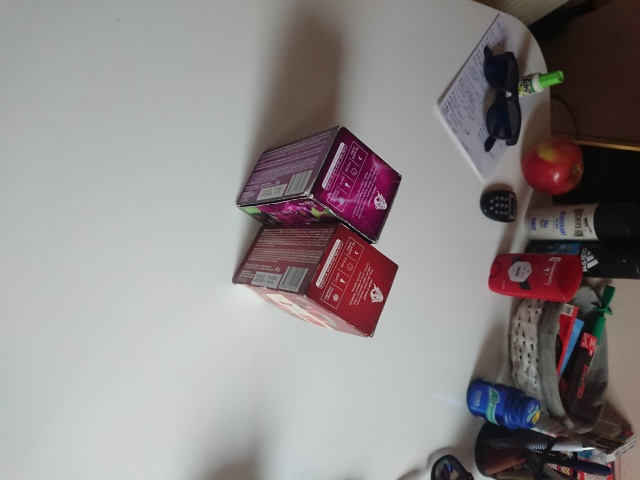Franck Apple Cinnamon Tea 60g: (230, 220, 402, 341)
Franck Black Currant Tea 60g: (233, 121, 405, 248)
